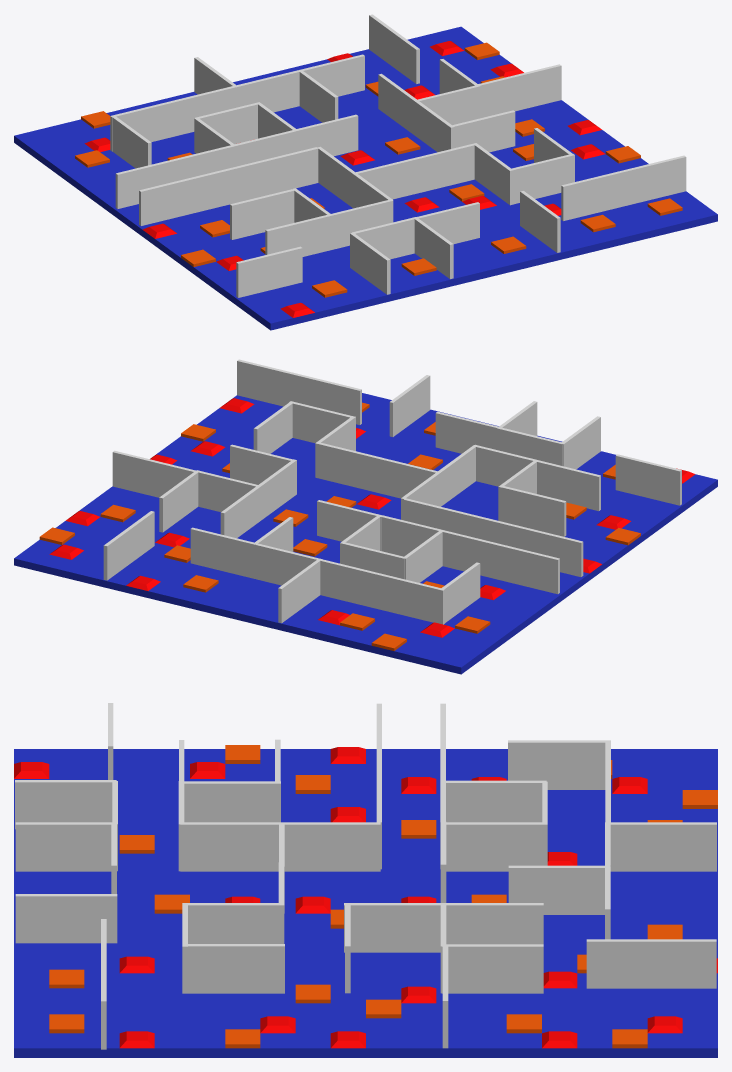
File: labyrinthe.fbx
3 renders of one model, top to bottom at view 1: azimuth 30°, elevation 25°; view 2: azimuth 150°, elevation 25°; view 3: azimuth 270°, elevation 25°, orthographic. The views are drawn at different scales.
Visible parts, largest first — view 1: sol, Box034, Box043, Box045, Box006, Box039, Box008, Box018, Box044, Box007, Box030, Box016 (+32 smaller); view 2: sol, Box043, Box002, Box034, Box024, Box039, Box013, Box011, Box044, Box040, Box018, Box035 (+32 smaller); view 3: sol, Box035, Box015, Box042, Box027, Box032, Box009, Box023, Box031, Box005, Box019, Box014 (+7 smaller).
Part boxes in pixels (box(x1,y1,x2,y2)): sol: box(14, 26, 717, 330); Box034: box(478, 64, 561, 118); Box043: box(236, 246, 302, 297); Box045: box(561, 170, 627, 221); Box006: box(139, 175, 205, 225); Box039: box(230, 189, 295, 239); Box008: box(253, 147, 318, 197); Box018: box(412, 143, 477, 194); Box044: box(621, 155, 686, 205); Box007: box(192, 162, 257, 211); Box030: box(509, 153, 574, 204); Box016: box(235, 70, 299, 112); sol: box(14, 393, 717, 674); Box043: box(615, 454, 681, 505); Box002: box(493, 543, 559, 594); Box034: box(112, 450, 195, 497); Box024: box(190, 527, 254, 578); Box039: box(500, 486, 566, 536); Box013: box(379, 574, 444, 624); Box011: box(317, 558, 382, 609); Box044: box(237, 359, 302, 406); Box040: box(535, 460, 600, 511); Box018: box(315, 442, 381, 491); Box035: box(103, 511, 154, 580); sol: box(14, 745, 717, 1057); Box035: box(586, 939, 716, 988); Box015: box(607, 822, 716, 871); Box042: box(15, 894, 117, 943); Box027: box(180, 822, 278, 871); Box032: box(15, 822, 117, 871); Box009: box(278, 822, 380, 871); Box023: box(441, 944, 543, 993); Box031: box(186, 944, 284, 993); Box005: box(441, 822, 543, 871); Box019: box(344, 903, 445, 952); Box014: box(508, 740, 609, 789).
Bounding box in the file's own units: 276 × 24.35 × 274.
